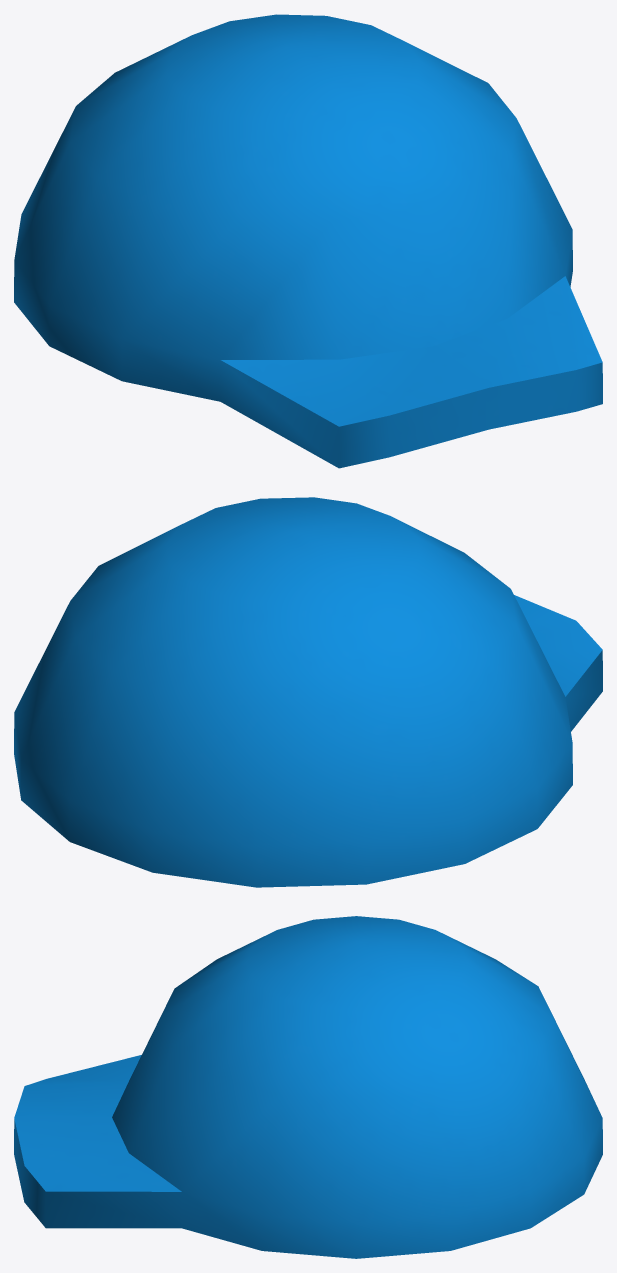
Rendered from Charakter_Engineer_cap.FBX.
3 renders of one model, top to bottom at view 1: azimuth 30°, elevation 25°; view 2: azimuth 150°, elevation 25°; view 3: azimuth 270°, elevation 25°, orthographic. The views are drawn at different scales.
Parts seen in each view (by area): view 1: Charakter_Engineer_cap; view 2: Charakter_Engineer_cap; view 3: Charakter_Engineer_cap.
Part boxes in pixels (x1=…): Charakter_Engineer_cap: x1=14, y1=14, x2=602, y2=468; Charakter_Engineer_cap: x1=14, y1=497, x2=602, y2=887; Charakter_Engineer_cap: x1=14, y1=916, x2=602, y2=1258.
Bounding box in the file's own units: 144 × 172 × 73.07.
